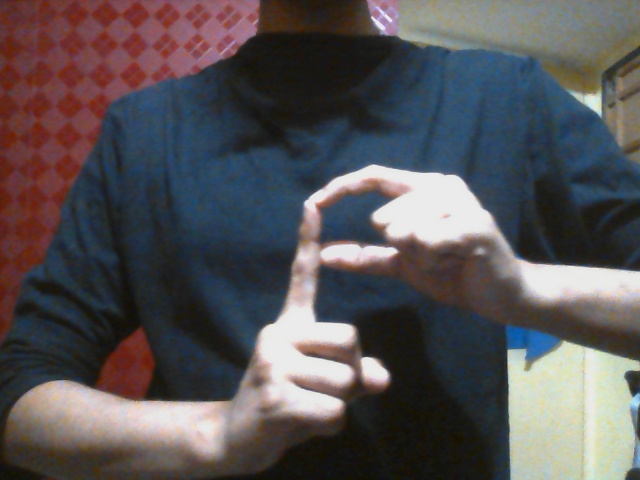P: (234, 163, 518, 445)
